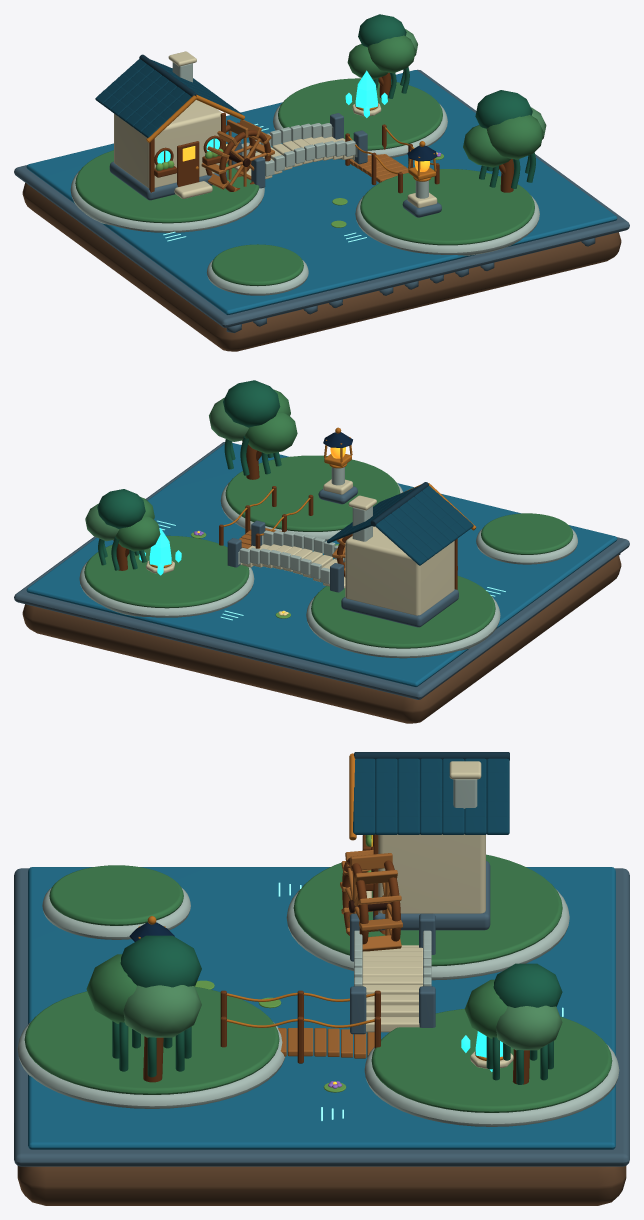
The model's file is 04_moon_water_town.glb.
3 views of the same model, one above another, from view 1: azimuth 30°, elevation 25°; view 2: azimuth 150°, elevation 25°; view 3: azimuth 270°, elevation 25° (orthographic). The views are drawn at different scales.
Visible parts, largest first — view 1: water_lake, diorama_earth, shore_grass.002, diorama_surface, shore_grass.001, shore_grass, cottage_plaster, shore_grass.003, shore_stone.002, shore_stone, round_canopy.002, round_canopy.003 (+10 smaller); view 2: water_lake, diorama_earth, diorama_surface, shore_grass.002, shore_grass.001, cottage_plaster, shore_grass, shore_grass.003, shore_stone, shore_stone.001, round_canopy.003, round_canopy (+9 smaller); view 3: water_lake, diorama_earth, diorama_surface, shore_grass.002, shore_grass.001, shore_grass, cottage_plaster, shore_grass.003, shore_stone.002, shore_stone.001, shore_stone, round_canopy.003 (+12 smaller).
Boxes of the visible parts, bbox=[...] form: water_lake: bbox=[26, 70, 617, 314]; diorama_earth: bbox=[22, 183, 621, 351]; shore_grass.002: bbox=[360, 169, 534, 245]; diorama_surface: bbox=[14, 69, 629, 327]; shore_grass.001: bbox=[278, 78, 442, 150]; shore_grass: bbox=[75, 150, 259, 223]; cottage_plaster: bbox=[114, 100, 221, 187]; shore_grass.003: bbox=[211, 244, 303, 286]; shore_stone.002: bbox=[355, 196, 539, 255]; shore_stone: bbox=[70, 171, 264, 232]; round_canopy.002: bbox=[486, 115, 543, 159]; round_canopy.003: bbox=[475, 90, 532, 128]; water_lake: bbox=[26, 443, 617, 686]; diorama_earth: bbox=[22, 555, 621, 723]; diorama_surface: bbox=[14, 442, 629, 699]; shore_grass.002: bbox=[225, 455, 400, 531]; shore_grass.001: bbox=[84, 535, 249, 608]; cottage_plaster: bbox=[345, 526, 454, 615]; shore_grass: bbox=[311, 576, 495, 648]; shore_grass.003: bbox=[481, 513, 573, 554]; shore_stone: bbox=[306, 596, 500, 658]; shore_stone.001: bbox=[79, 561, 254, 617]; round_canopy.003: bbox=[223, 380, 280, 427]; round_canopy: bbox=[245, 413, 297, 454]; water_lake: bbox=[28, 867, 615, 1149]; diorama_earth: bbox=[17, 1166, 626, 1205]; diorama_surface: bbox=[14, 868, 629, 1166]; shore_grass.002: bbox=[24, 987, 279, 1094]; shore_grass.001: bbox=[371, 1009, 612, 1112]; shore_grass: bbox=[293, 854, 562, 966]; cottage_plaster: bbox=[378, 834, 485, 913]; shore_grass.003: bbox=[49, 865, 183, 925]; shore_stone.002: bbox=[17, 1022, 285, 1108]; shore_stone.001: bbox=[364, 1044, 619, 1126]; shore_stone: bbox=[286, 889, 569, 980]; round_canopy.003: bbox=[120, 935, 201, 987].
Size of the model in its own units: 9.7 by 3.75 by 8.7.
